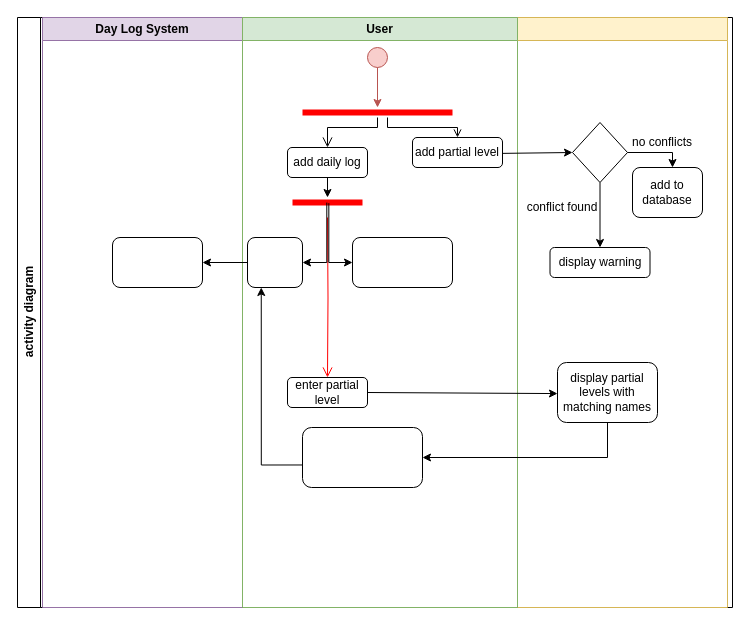
Image size: 750x625. Some labels were removed from this diagram. Each missing label, with the box of its shape:
enter daily log info: (246, 236, 302, 288)
Levels system: (516, 16, 728, 608)
print log: (352, 236, 452, 288)
save log info to database: (112, 236, 202, 288)
select wanted partial level: (302, 426, 422, 488)
